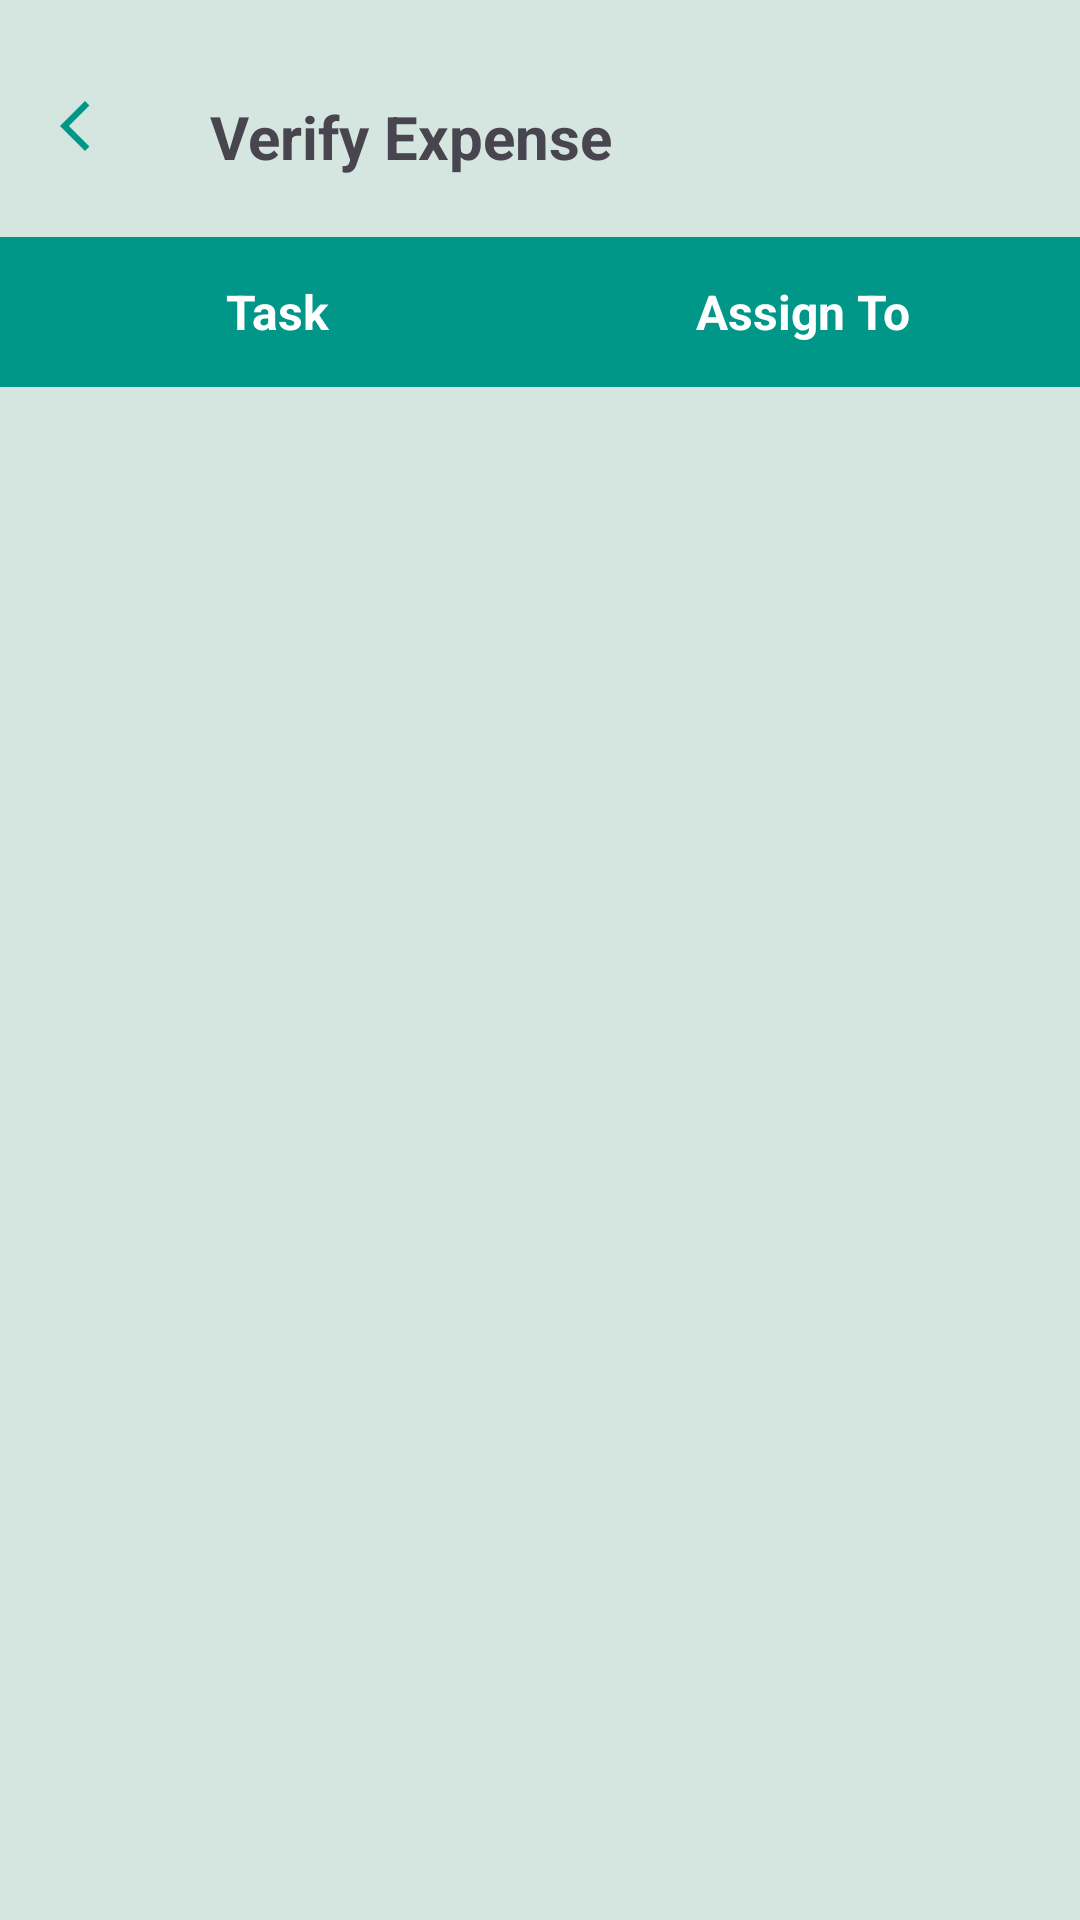

Locate icon controls on the screen. Image size 1080 x 1920, boxes as (x1, y1, x2, y2).
back: (60, 101, 90, 151)
